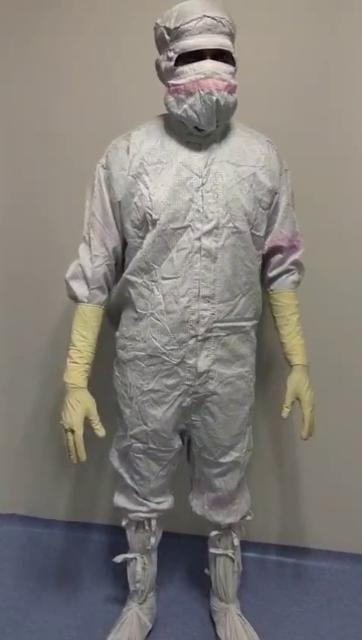boot_secured: (94, 488, 176, 640), (195, 490, 274, 640)
gloves_fitted_securely: (48, 284, 124, 464), (258, 259, 330, 443)
headgear_secured: (159, 2, 252, 146)
zip_secured: (185, 132, 231, 408)
